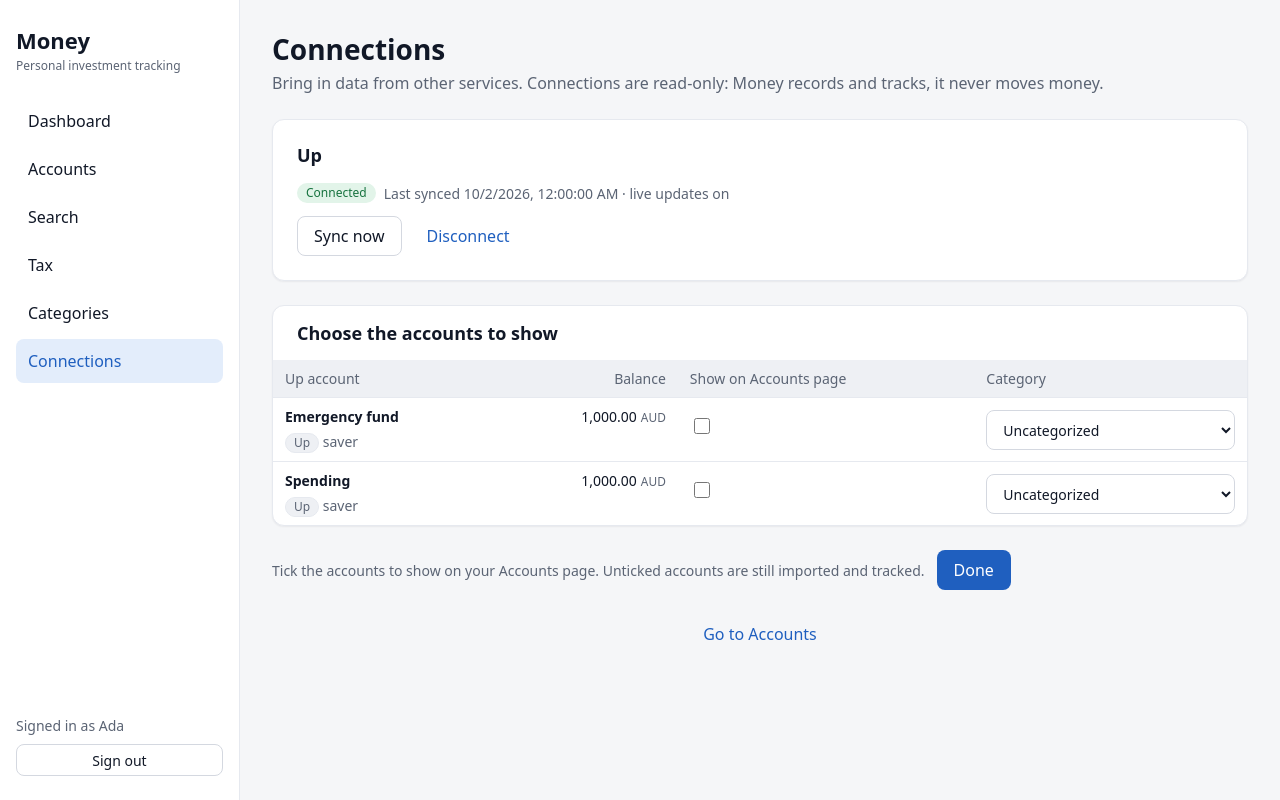
Test: connections › lets the user press Done with nothing ticked and keeps every account hidden
Expected: the heading "Choose the accounts to show" is shown, [297,322,558,344]
Click the button "Done".
click(974, 570)  # box [936,550,1011,590]
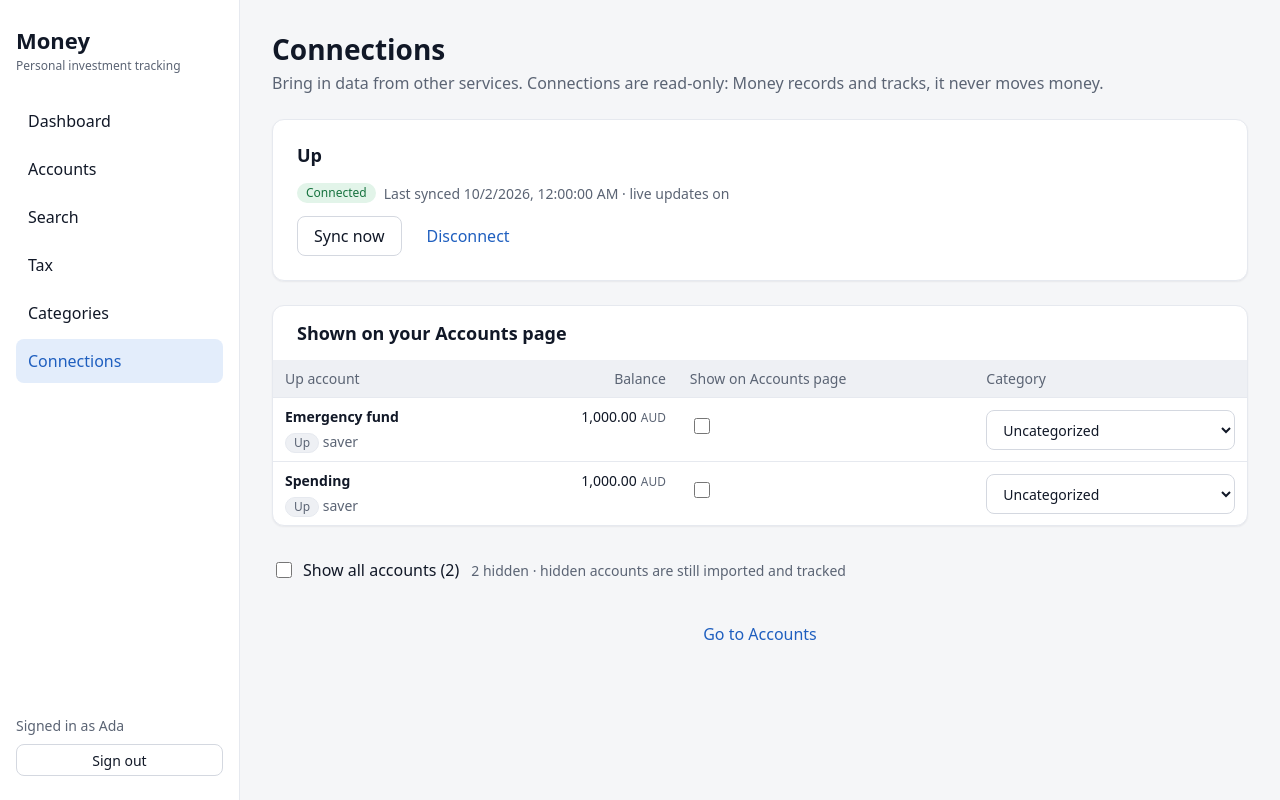
Expected: the checkbox labelled "Show all accounts (2)" is shown, [276,562,292,578]
Expected: the heading "Choose the accounts to show" is gone
